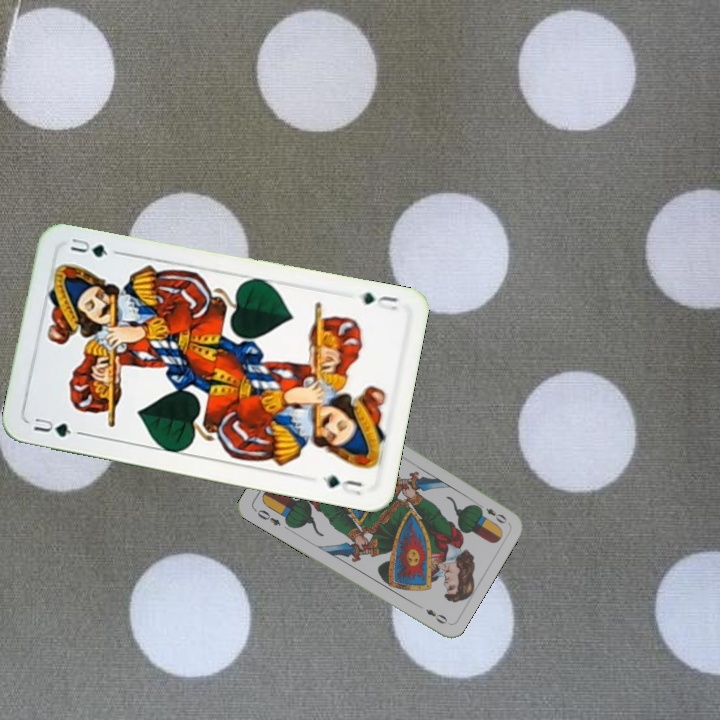EO: (473, 499, 510, 526), (250, 505, 283, 528)
GU: (29, 414, 84, 440), (354, 288, 401, 314)
